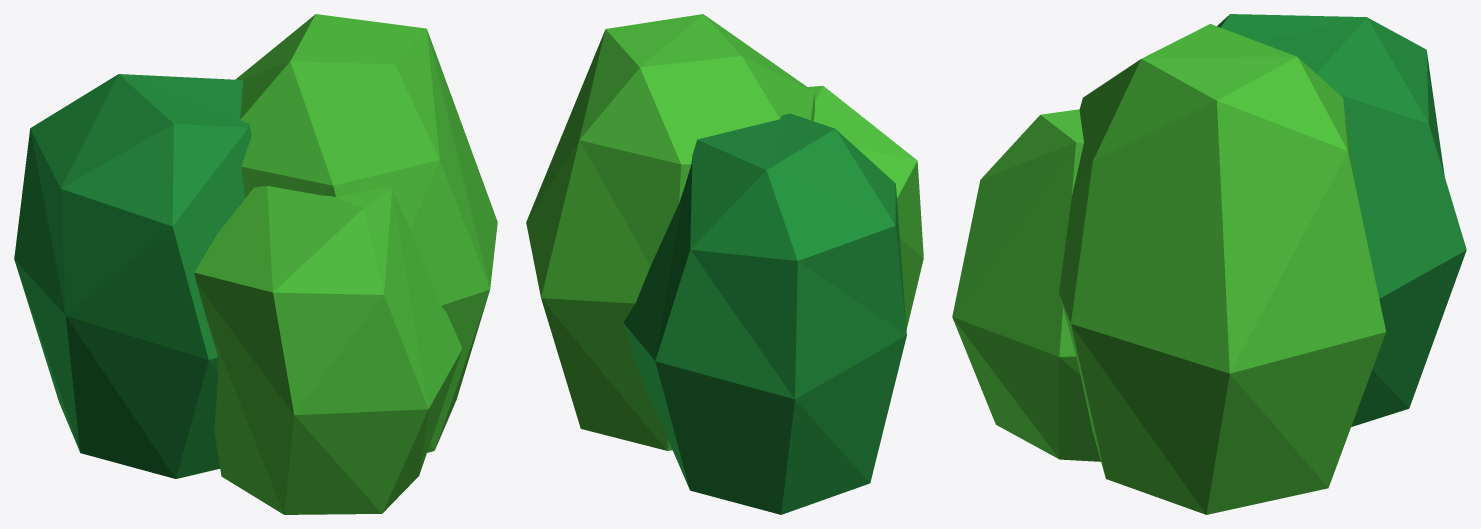
The model's file is bush_round_a.fbx.
The picture shows the model from 3 angles, left to right: view 1: azimuth 30°, elevation 25°; view 2: azimuth 150°, elevation 25°; view 3: azimuth 270°, elevation 25°; orthographic projection. The views are drawn at different scales.
Visible parts, largest first — view 1: bush_round_a; view 2: bush_round_a; view 3: bush_round_a.
Boxes of the visible parts, box(x1,y1,x2,y2) form: bush_round_a: box(14, 14, 497, 514); bush_round_a: box(526, 14, 923, 514); bush_round_a: box(952, 14, 1466, 514).
Bounding box in the file's own units: 1.6 × 1.4 × 1.6.
